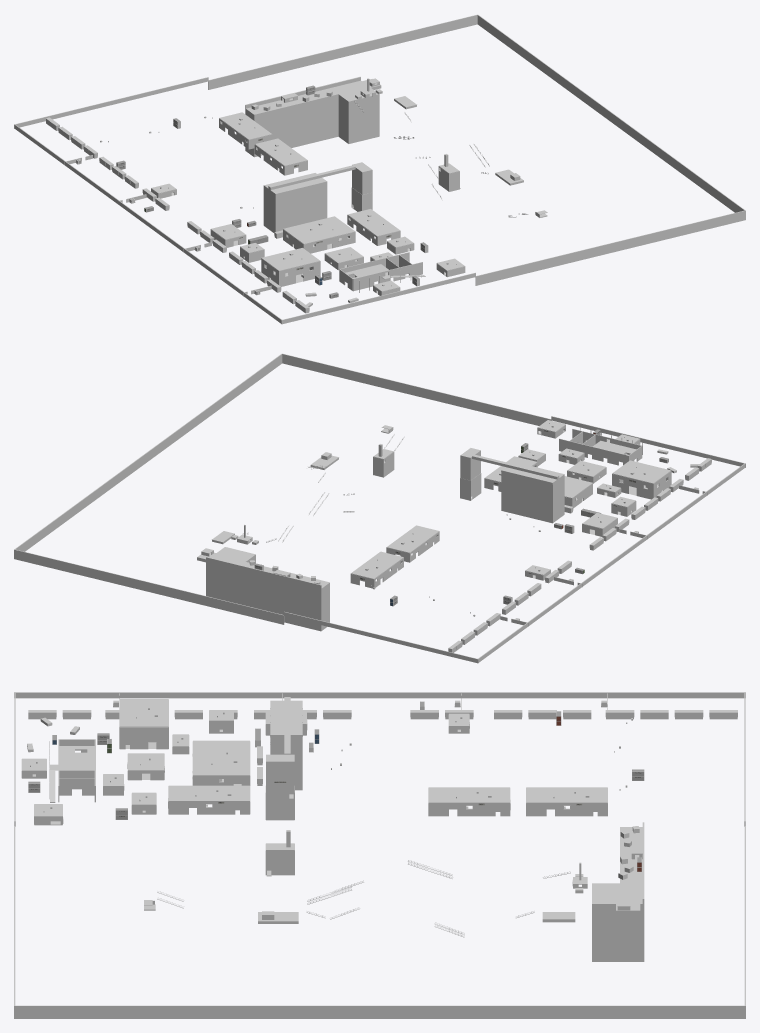
File: south_port.glb
3 views of the same model, one above another, from view 1: azimuth 30°, elevation 25°; view 2: azimuth 150°, elevation 25°; view 3: azimuth 270°, elevation 25° (orthographic). The views are drawn at different scales.
Parts seen in each view (by area): view 1: south_port; view 2: south_port; view 3: south_port.
Part boxes in pixels (left/top/right/bottom): south_port: left=14, top=14, right=745, bottom=324; south_port: left=14, top=353, right=745, bottom=663; south_port: left=14, top=692, right=745, bottom=1018.
Bounding box in the file's own units: 360 × 63.5 × 360.
3 materials, 2 textured.
